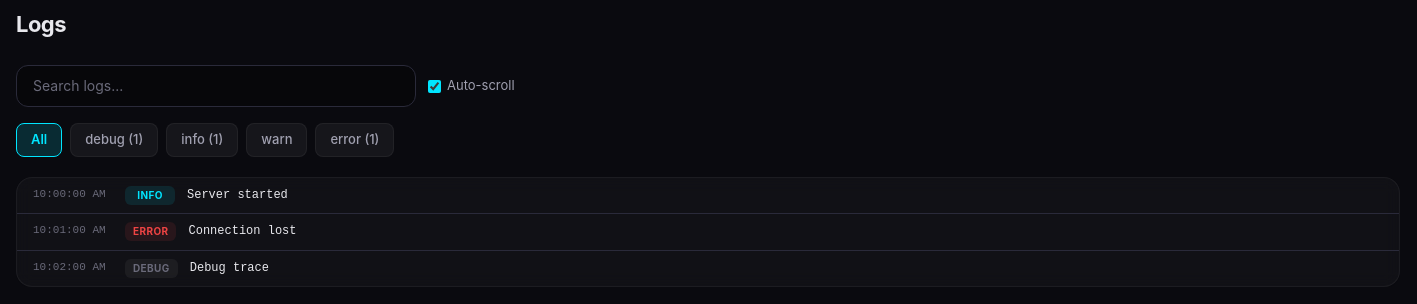
Scenario: LogsPage › filters logs by level
// Click the "error" level filter
What coordinates should you click on to do the following:
click the button "error (1)"
I would click on:
 (355, 140)
Its box is x1=316 y1=123 x2=394 y2=156.
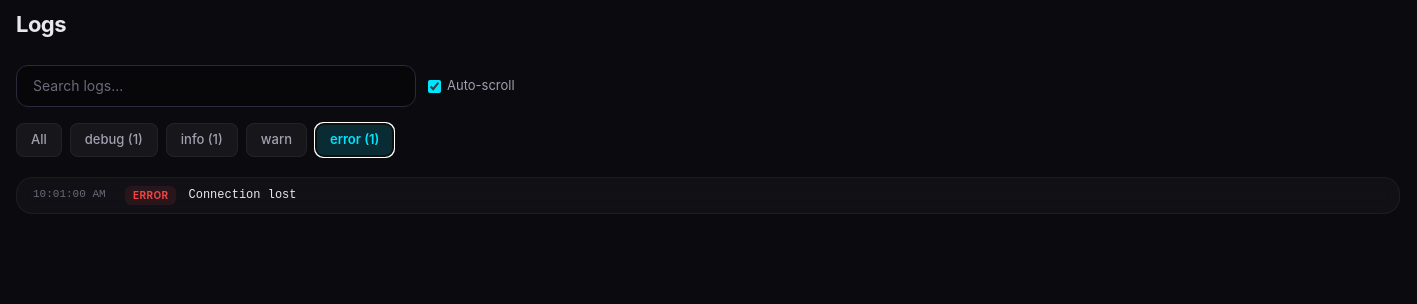
Check: the text "Connection lost" is shown, box x1=188 y1=188 x2=296 y2=202
Check: the text "Server started" is gone
Check: the text "Debug trace" is gone
